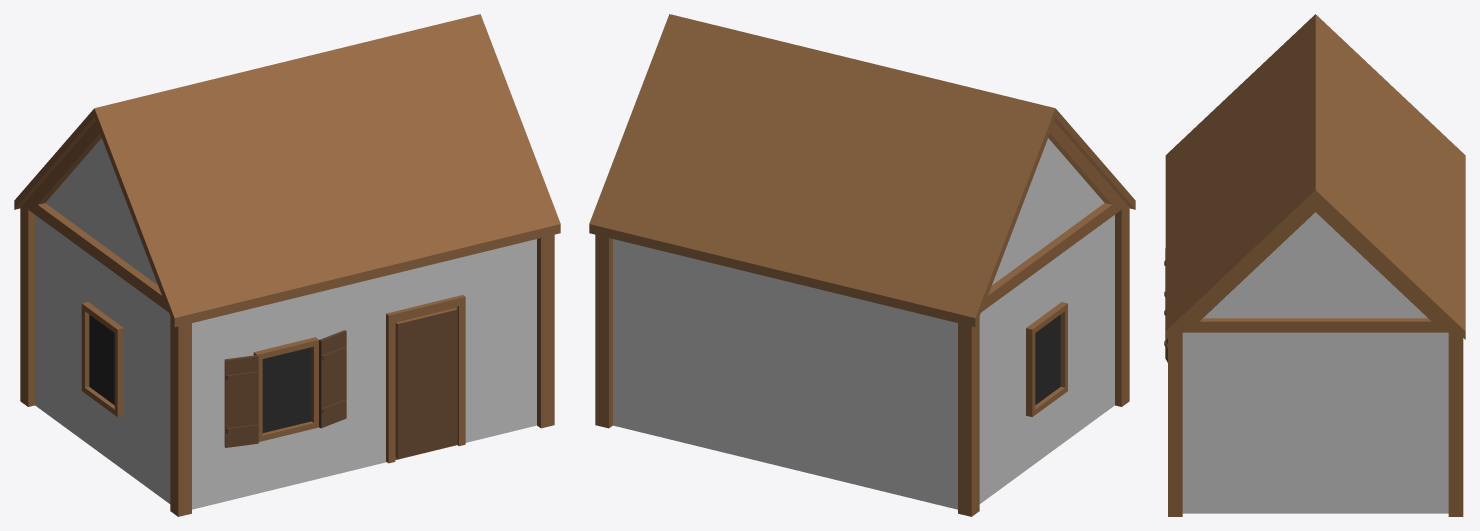
The model's file is House_mat.fbx.
3 renders of one model, left to right at view 1: azimuth 30°, elevation 25°; view 2: azimuth 150°, elevation 25°; view 3: azimuth 270°, elevation 25°, orthographic. The views are drawn at different scales.
Parts seen in each view (by area): view 1: House_mat; view 2: House_mat; view 3: House_mat.
Part boxes in pixels (x1,y1,x2,y2): House_mat: (14, 14, 560, 516); House_mat: (589, 14, 1135, 516); House_mat: (1164, 14, 1465, 516).
Bounding box in the file's own units: 284 × 247 × 205.
